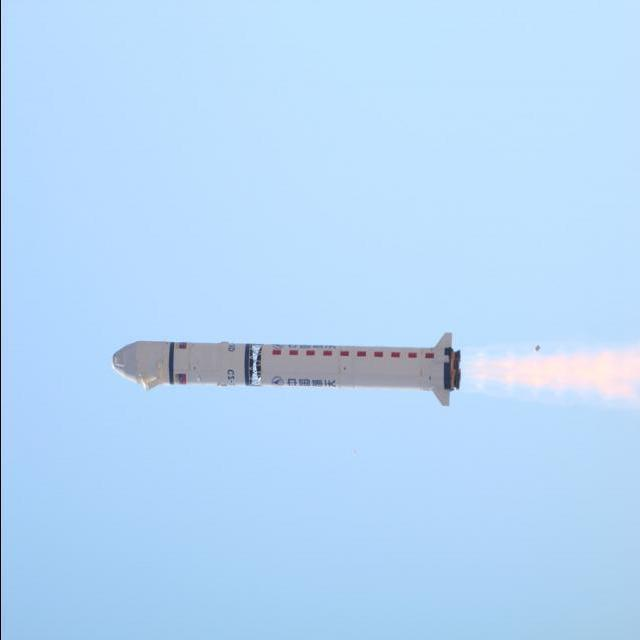missile: (105, 328, 469, 409)
